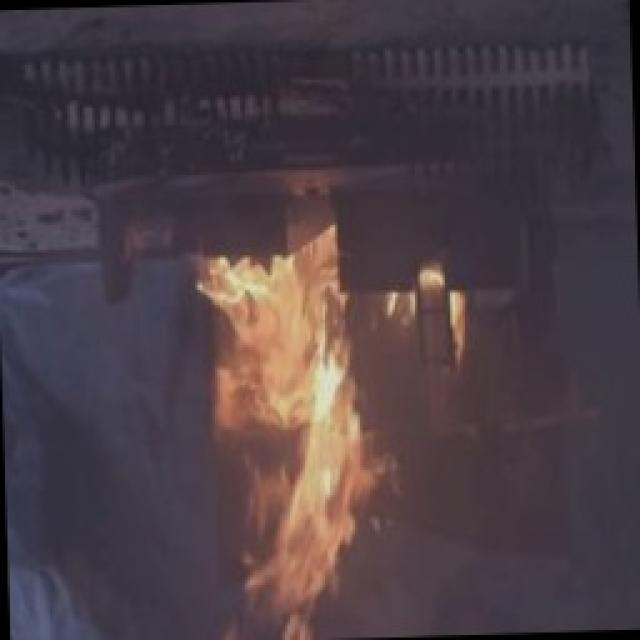fire: (184, 229, 451, 639)
